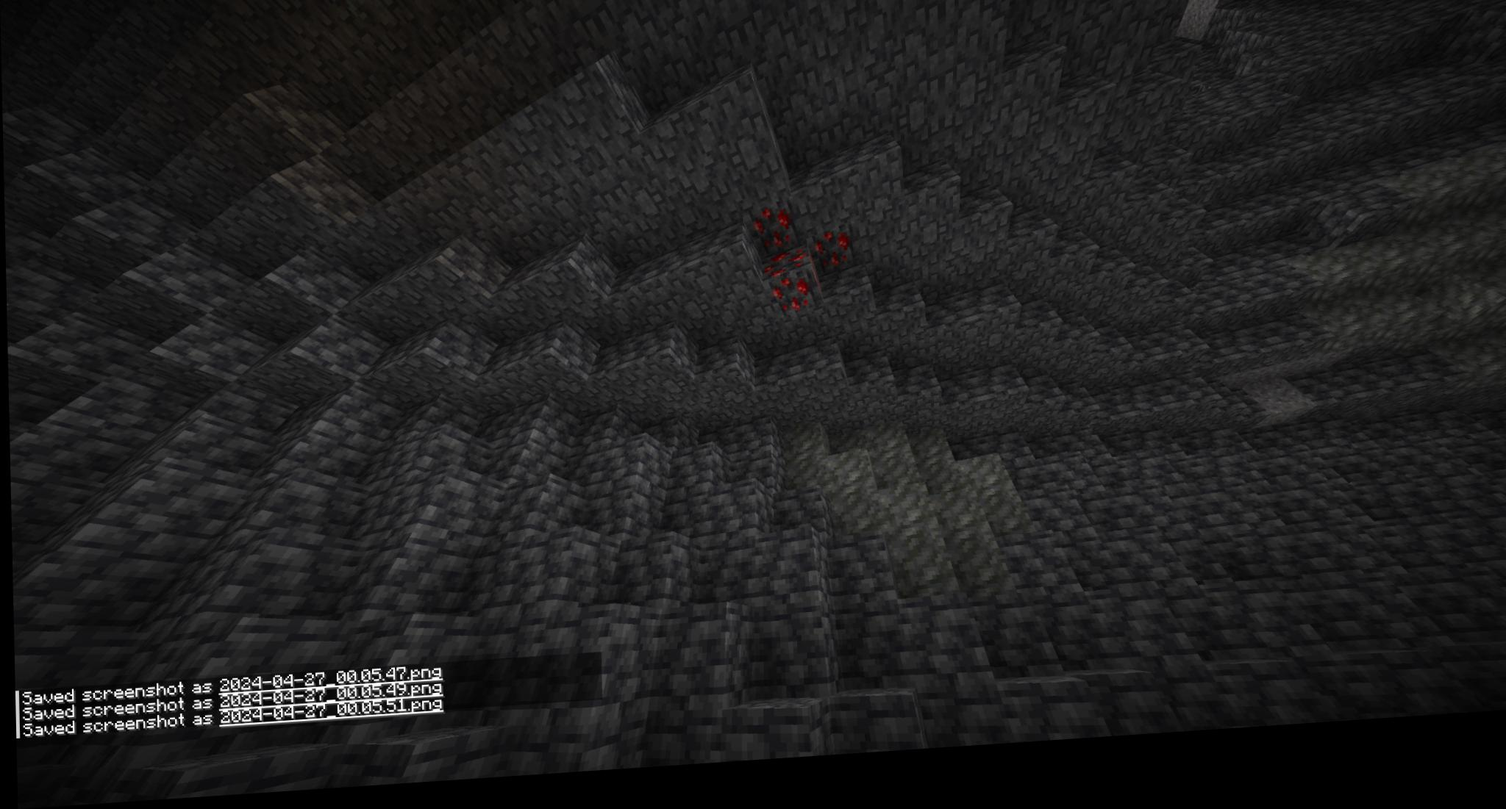redstone ore: (765, 250, 817, 324), (742, 211, 803, 268), (801, 233, 855, 283)
